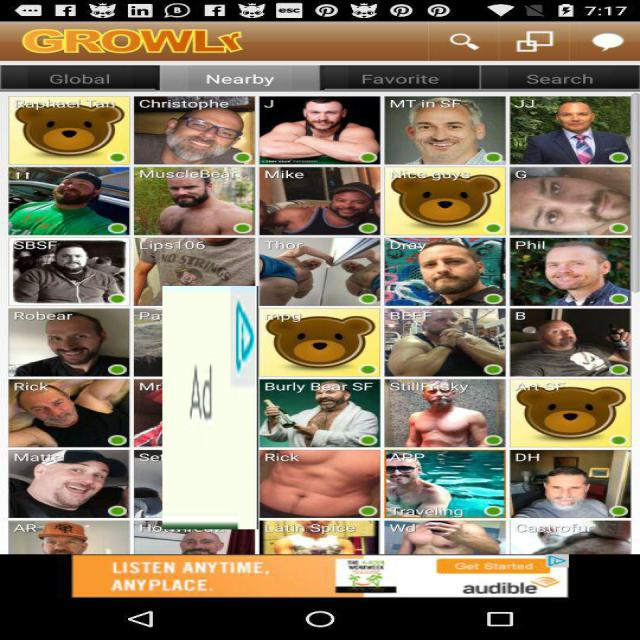sneaking: (162, 286, 258, 529)
